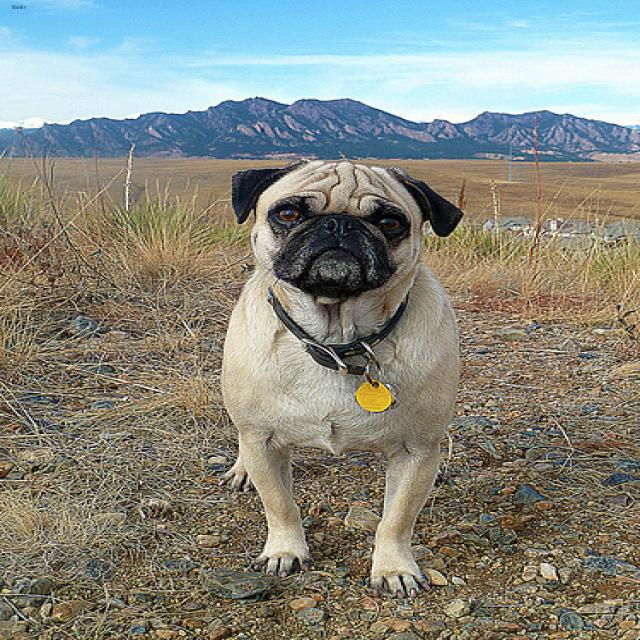dog-pug: (210, 150, 471, 607)
